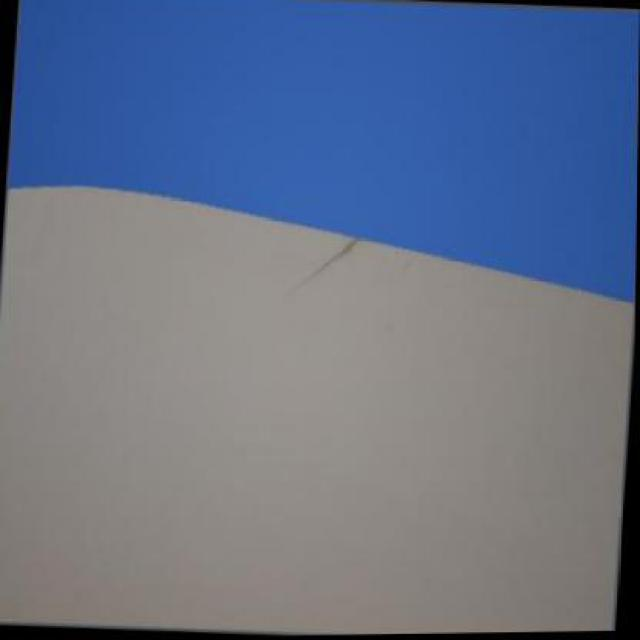Crack: (287, 228, 359, 298)
